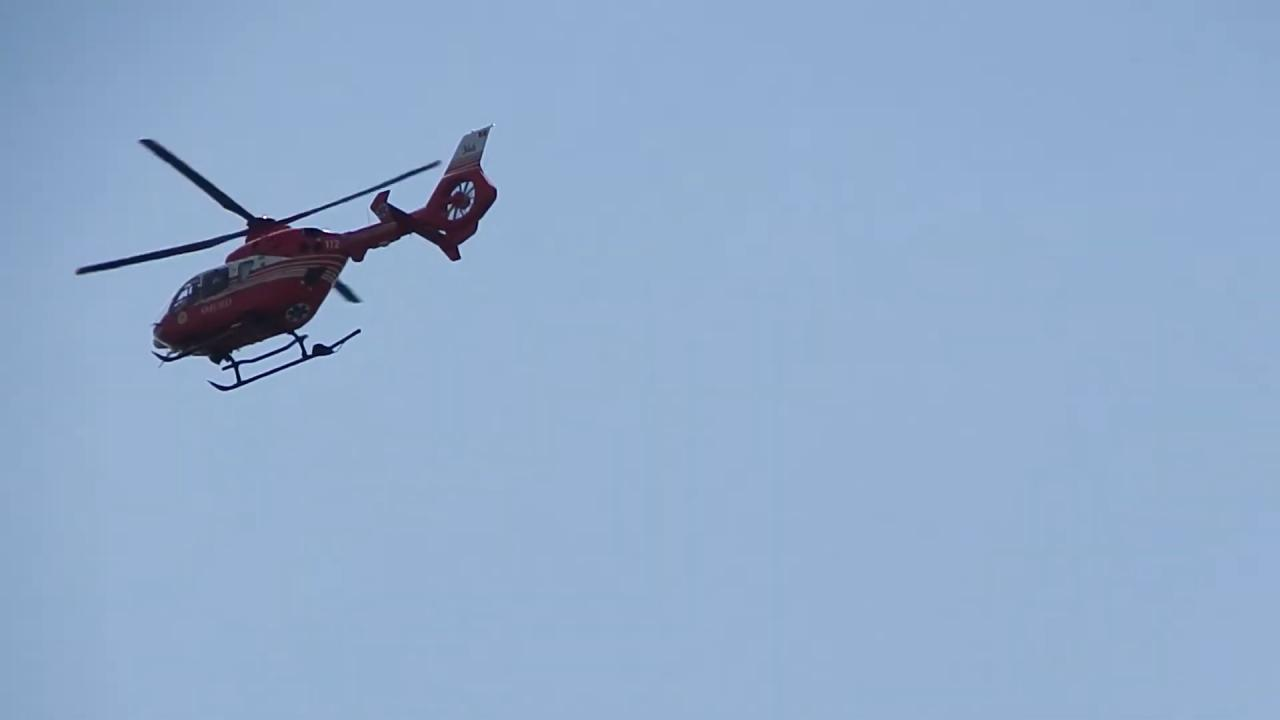Helicopter: (45, 106, 529, 407)
